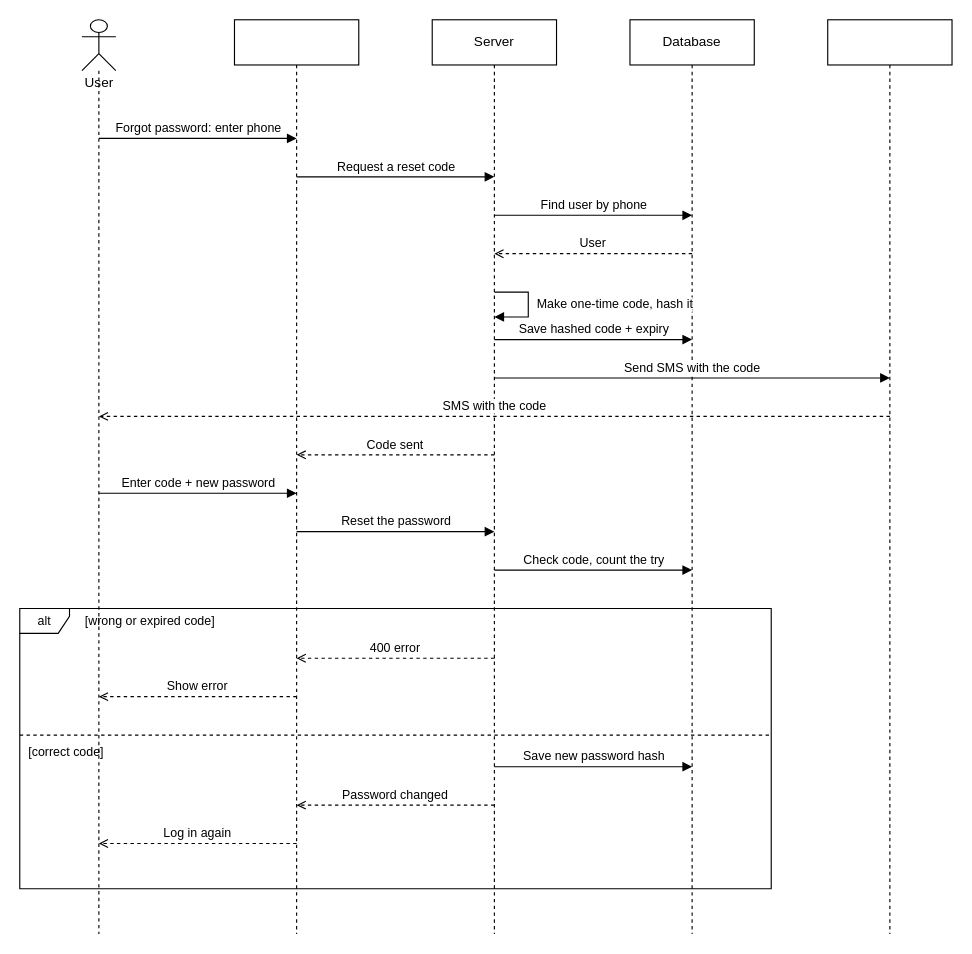
Image size: 972x954. Some labels were removed from this diagram. Here are the shapes that lost their labels. From the top down, the box of each, then its label:
(233, 19, 359, 934): Web App
(827, 19, 952, 934): BulkSMSBD
